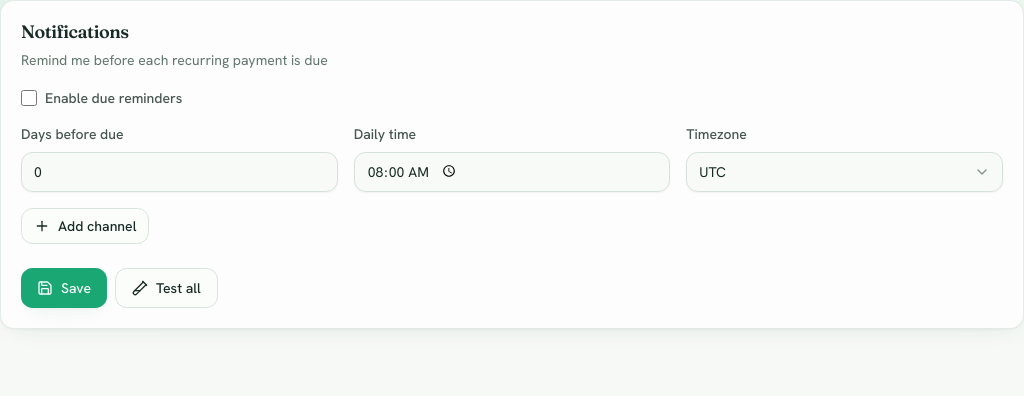
Test: NotificationsSettings › renders and can add a channel row
Expected: the text "Notifications" is shown, 21,20 -> 129,43
Click the button "Add channel".
click(85, 226)  # box 21,208 -> 150,244
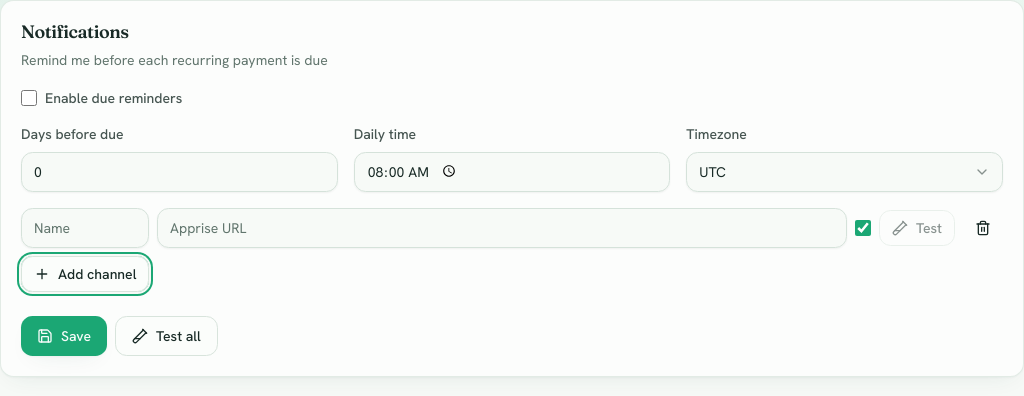
Expected: the field with placeholder "Apprise URL" is shown, 157,208 -> 847,248
